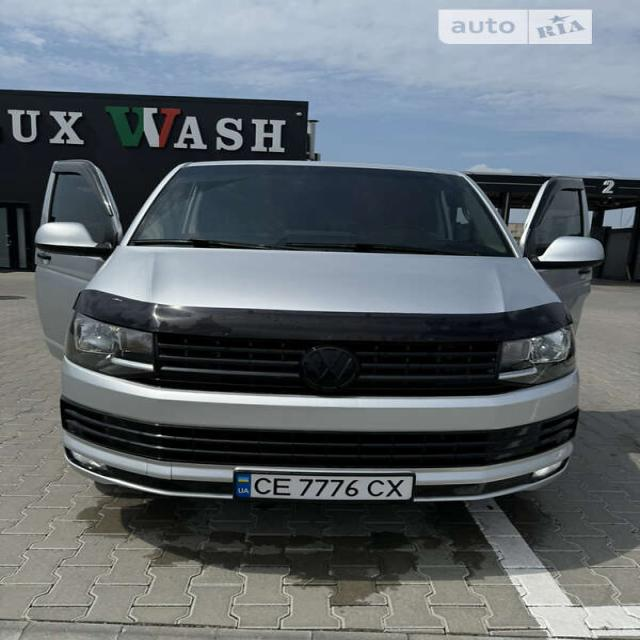plate: (226, 455, 423, 510)
